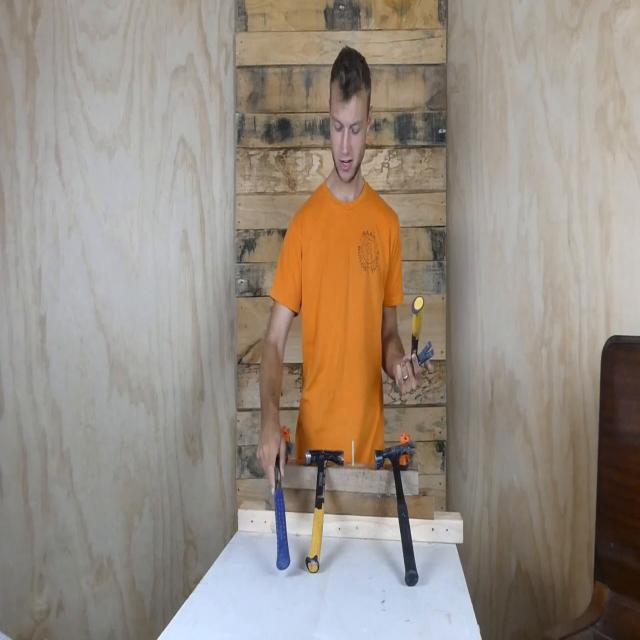hammer: (372, 434, 422, 589), (305, 443, 348, 579), (267, 436, 298, 572), (402, 294, 438, 386)
